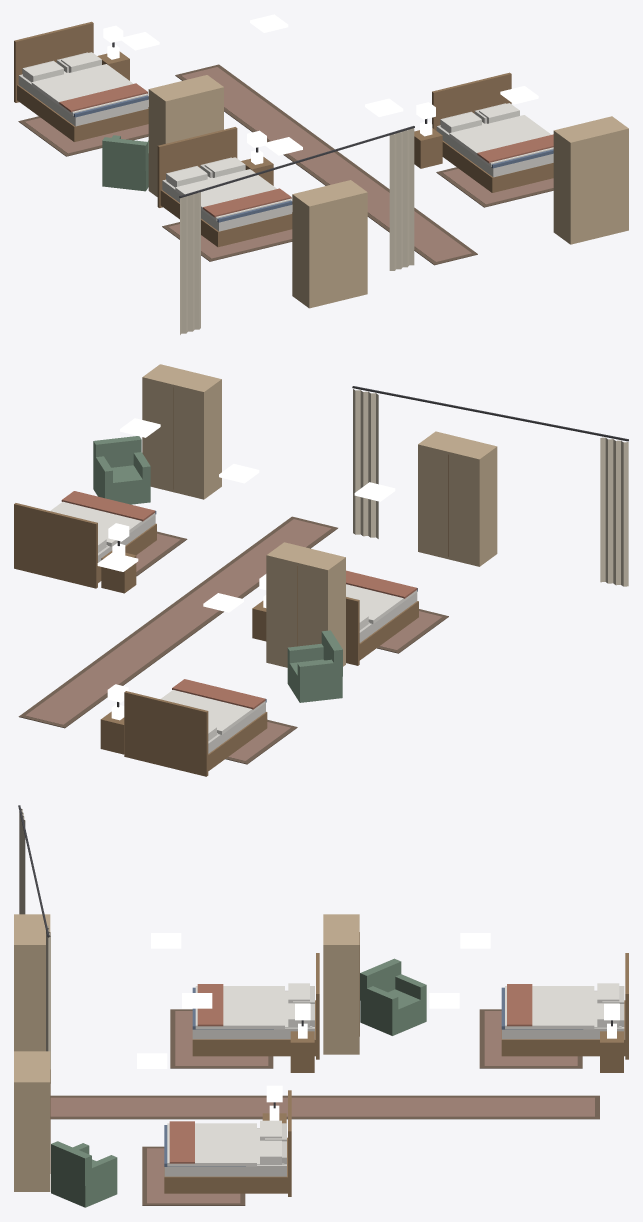
File: fine-s2.glb
3 views of the same model, one above another, from view 1: azimuth 30°, elevation 25°; view 2: azimuth 150°, elevation 25°; view 3: azimuth 270°, elevation 25° (orthographic). The views are drawn at different scales.
Visible parts, largest first — view 1: soft-s2, dresser.005, dresser.003, bed-frame.004, bed-frame.005, bed-frame.003, dresser.004, lounge-chair.003, nightstand.003, nightstand.004, nightstand.005, ceiling-lamp.011 (+4 smaller); view 2: soft-s2, dresser.005, dresser.003, dresser.004, bed-frame.004, bed-frame.003, lounge-chair.002, lounge-chair.003, bed-frame.005, nightstand.004, nightstand.003, nightstand.005; view 3: soft-s2, dresser.003, dresser.004, dresser.005, bed-frame.003, lounge-chair.003, bed-frame.004, bed-frame.005, lounge-chair.002, nightstand.005, nightstand.004.
Boxes of the visible parts, <box> form: soft-s2: <box>18,25,553,334</box>; dresser.005: <box>292,180,367,308</box>; dresser.003: <box>553,116,628,244</box>; bed-frame.004: <box>14,21,148,141</box>; bed-frame.005: <box>157,127,292,247</box>; bed-frame.003: <box>432,72,553,192</box>; dresser.004: <box>148,75,223,196</box>; lounge-chair.003: <box>102,135,148,191</box>; nightstand.003: <box>414,121,442,168</box>; nightstand.004: <box>97,44,129,80</box>; nightstand.005: <box>241,149,273,185</box>; ceiling-lamp.011: <box>264,137,302,155</box>; soft-s2: <box>18,386,628,764</box>; dresser.005: <box>418,431,497,566</box>; dresser.003: <box>142,364,221,499</box>; dresser.004: <box>266,542,345,667</box>; bed-frame.004: <box>124,691,267,776</box>; bed-frame.003: <box>14,503,156,588</box>; lounge-chair.002: <box>93,436,150,504</box>; lounge-chair.003: <box>287,630,342,702</box>; bed-frame.005: <box>346,588,418,665</box>; nightstand.004: <box>100,704,124,754</box>; nightstand.003: <box>101,543,136,593</box>; nightstand.005: <box>252,595,266,641</box>; soft-s2: <box>18,805,621,1205</box>; dresser.003: <box>14,1051,50,1191</box>; dresser.004: <box>323,914,359,1054</box>; dresser.005: <box>14,914,50,1051</box>; bed-frame.003: <box>164,1090,291,1196</box>; lounge-chair.003: <box>360,958,426,1035</box>; bed-frame.004: <box>501,953,628,1059</box>; bed-frame.005: <box>192,953,319,1059</box>; lounge-chair.002: <box>51,1141,117,1207</box>; nightstand.005: <box>290,1023,314,1072</box>; nightstand.004: <box>600,1023,623,1072</box>.
Bounding box in the file's own units: 9.79 × 2.77 × 10.15.
